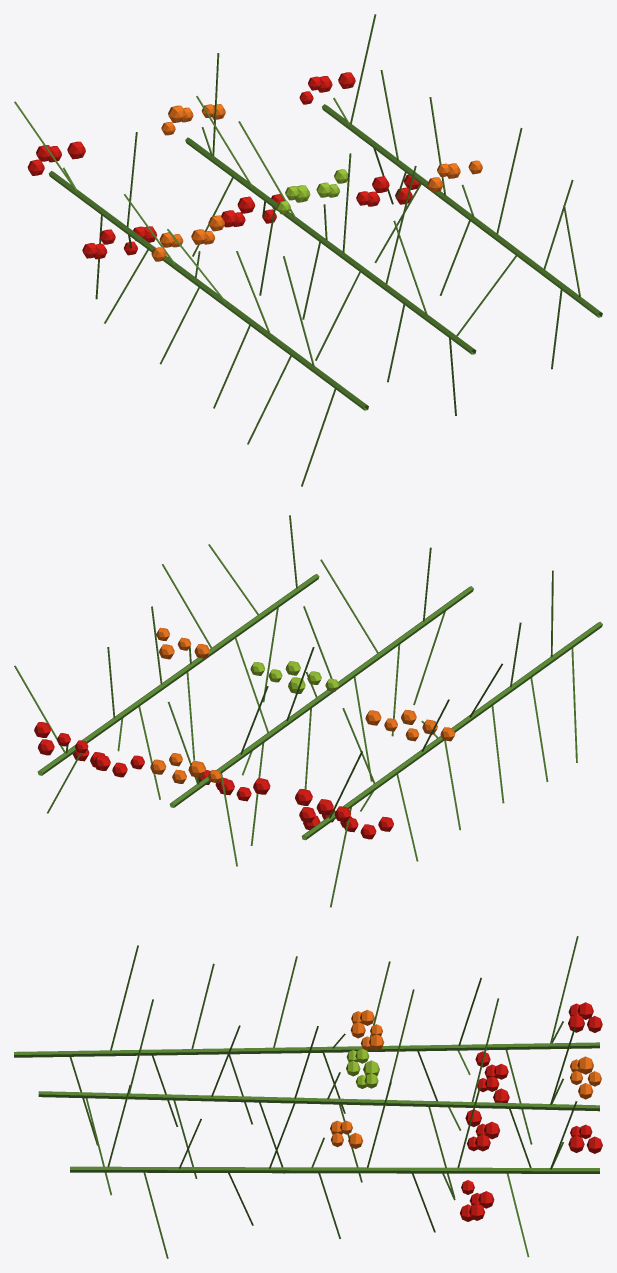
File: r12c1_stems.obj
3 views of the same model, one above another, from view 1: azimuth 30°, elevation 25°; view 2: azimuth 150°, elevation 25°; view 3: azimuth 270°, elevation 25° (orthographic). The views are drawn at different scales.
Visible parts, largest first — view 1: r12c1_stems; view 2: r12c1_stems; view 3: r12c1_stems.
Part boxes in pixels (x1,y1,x2,y2): r12c1_stems: (14,14,602,486); r12c1_stems: (14,515,602,907); r12c1_stems: (14,936,602,1258).
Size of the model in its own units: 1.5 by 0.8736 by 2.25.
